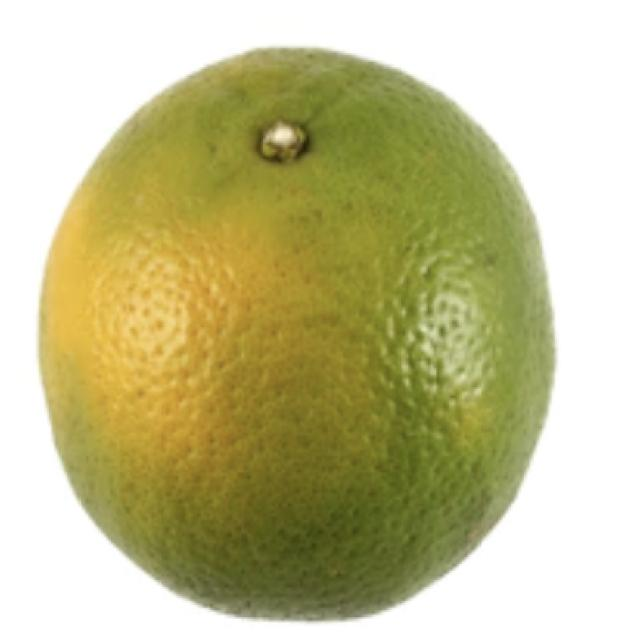orange: (41, 50, 553, 618)
